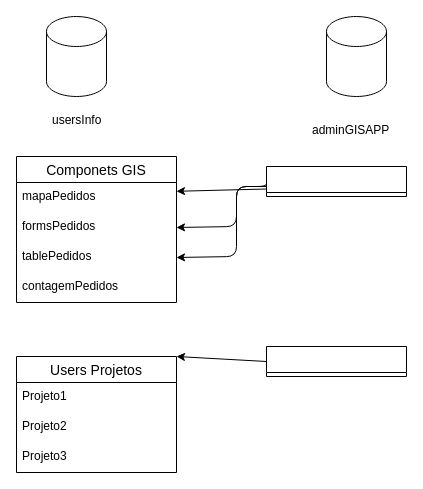
The diagram is 423 pixels wide and 489 high, and some of its shapes have lost their labels. Here are the shapes that lost their labels. From the top down, the centre of each, then its label:
point (336, 181): FeatLyrPedidos
point (336, 361): FeatLyrProjetos
